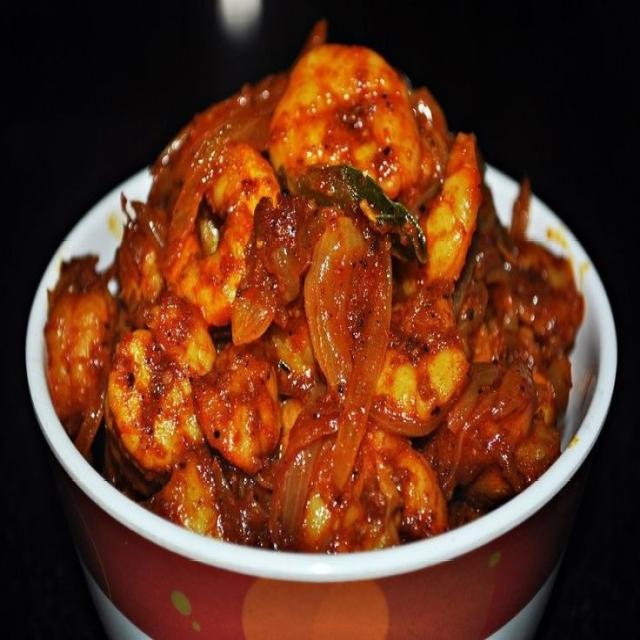prawn thokku: (52, 39, 595, 515)
